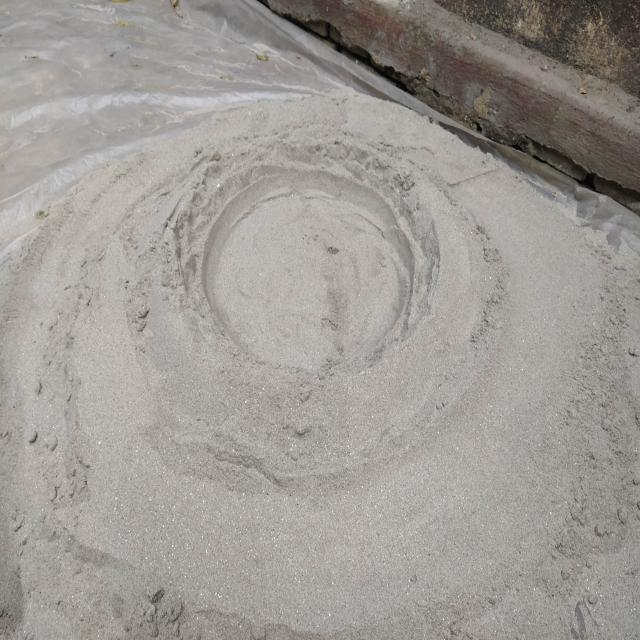C40: (202, 172, 414, 370)
